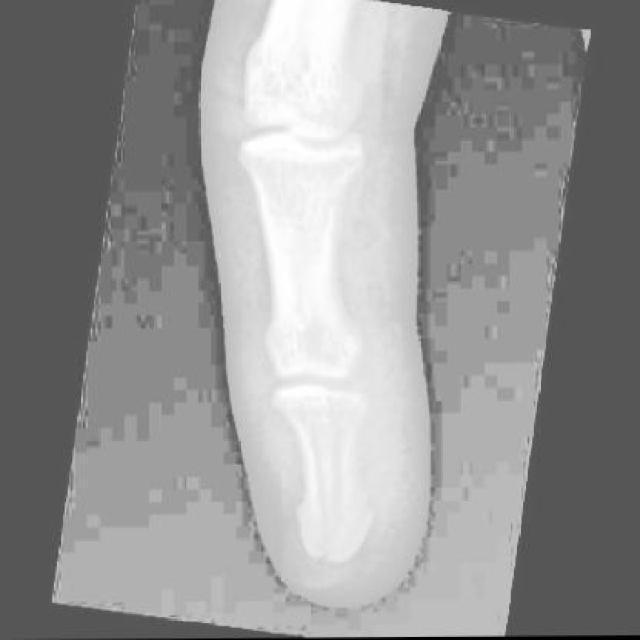Fracture: (245, 382, 399, 585)
